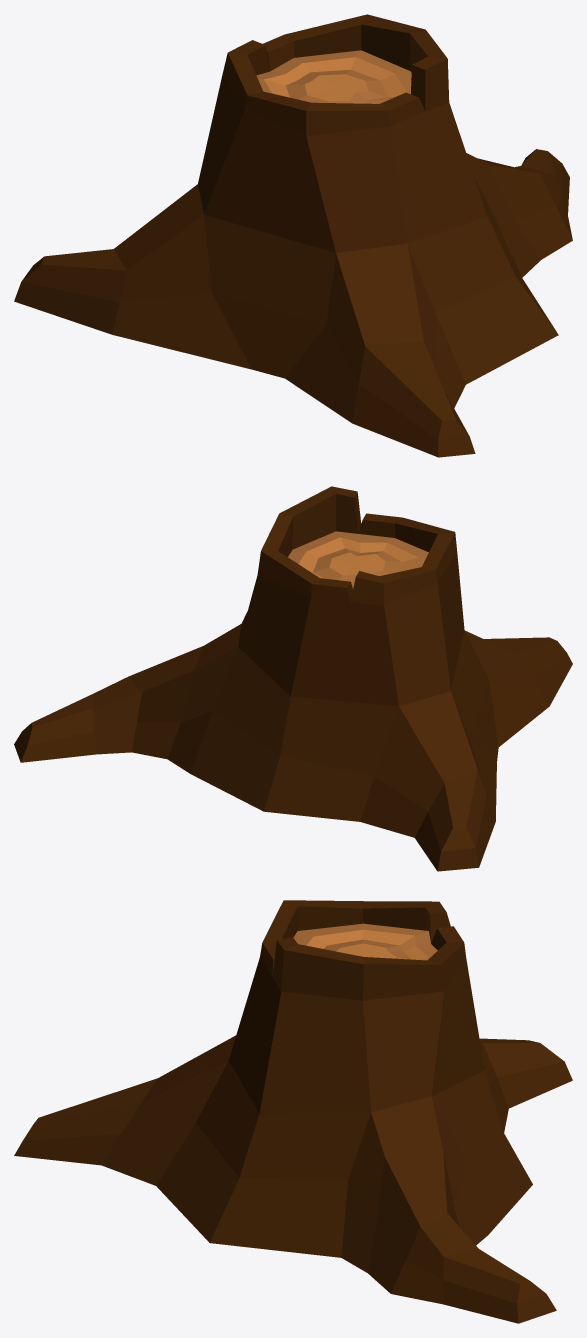
The model's file is pien.fbx.
The picture shows the model from 3 angles, top to bottom: view 1: azimuth 30°, elevation 25°; view 2: azimuth 150°, elevation 25°; view 3: azimuth 270°, elevation 25°; orthographic projection. The views are drawn at different scales.
Visible parts, largest first — view 1: Cube.001; view 2: Cube.001; view 3: Cube.001.
Boxes of the visible parts, x1,y1,x2,y2 form: Cube.001: (14,14,572,457); Cube.001: (14,486,572,871); Cube.001: (14,900,572,1323).
Bounding box in the file's own units: 138 × 64.58 × 127.
